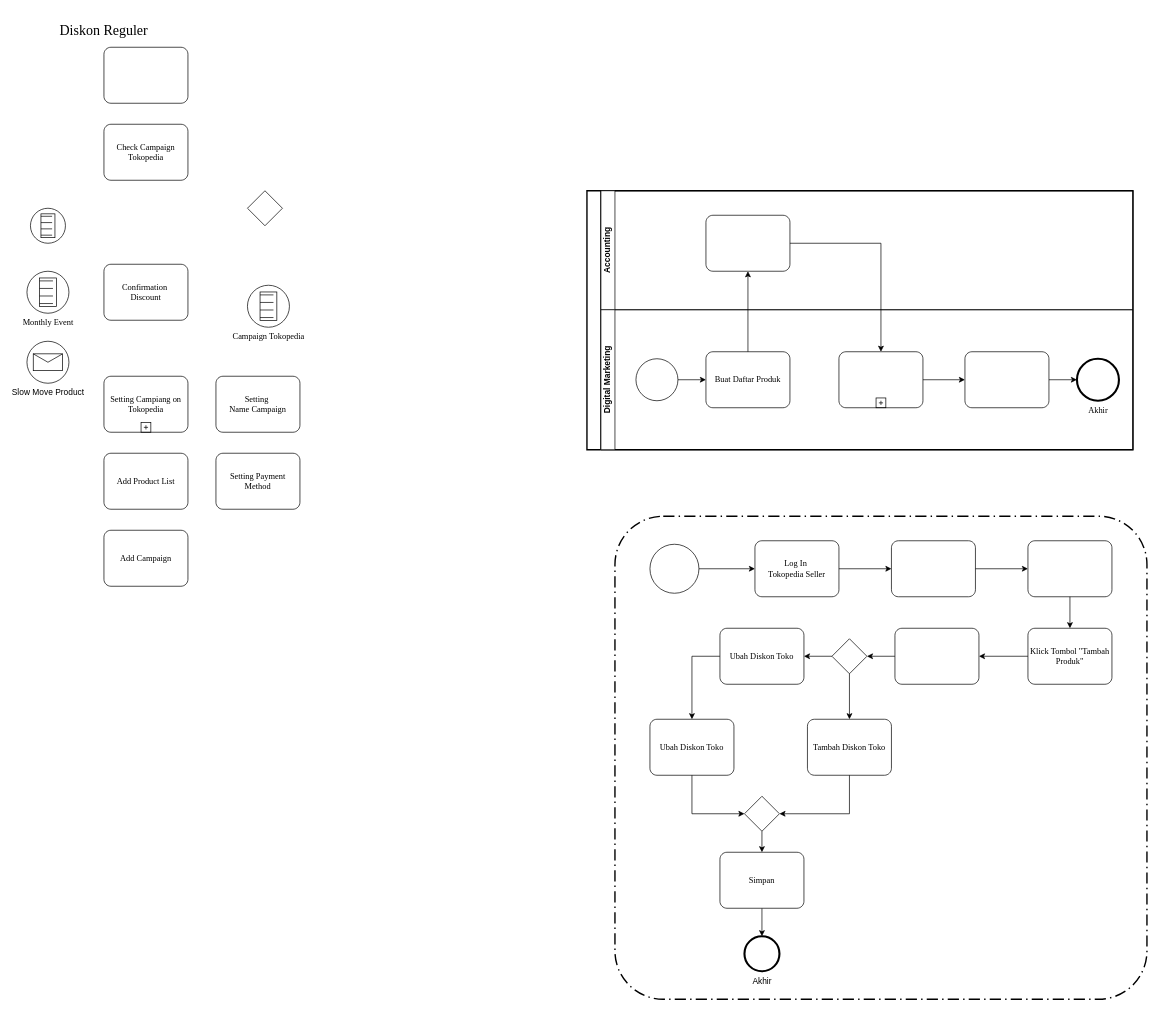
The diagram is 1160 pixels wide and 1012 high, and some of its shapes have lost their labels. Each missing label, with the centre of its shape:
Atur Diskon di Tokopedia: (x=880, y=379)
Cari Produk dengan Name/SKU: (x=936, y=656)
Discount Min Below 20%: (x=264, y=208)
Hitung Diskon & HPP: (x=747, y=243)
Klick Fitur "Diskon Toko": (x=1069, y=568)
Klik Menu "Promosi dan Optimasi": (x=933, y=568)
Konfirmasi Diskon: (x=1006, y=379)
Mulai: (x=656, y=379)
Muslim Holyday: (x=47, y=225)
Produk sudah didiskon?: (x=849, y=656)
Start: (x=674, y=568)
